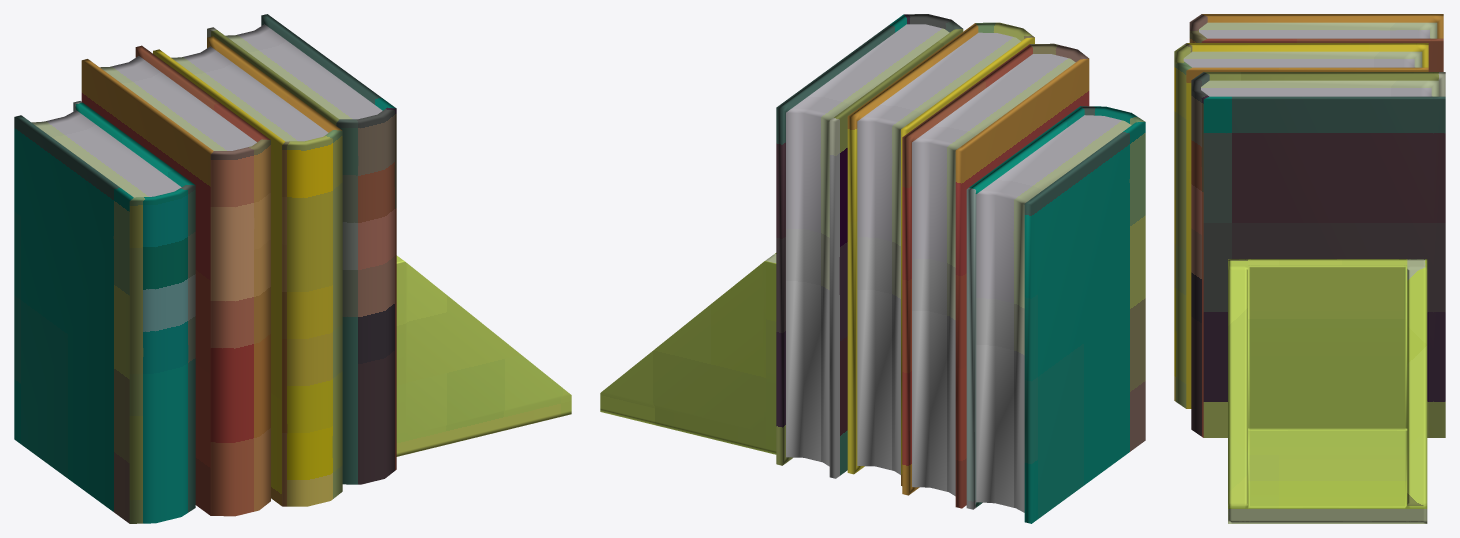
The model's file is a_com_house_a01_book01.gltf.
The picture shows the model from 3 angles, left to right: view 1: azimuth 30°, elevation 25°; view 2: azimuth 150°, elevation 25°; view 3: azimuth 270°, elevation 25°; orthographic projection. The views are drawn at different scales.
Visible parts, largest first — view 1: um_a_com_house_a01_book01_model_a_com_house_a01_book01_model; view 2: um_a_com_house_a01_book01_model_a_com_house_a01_book01_model; view 3: um_a_com_house_a01_book01_model_a_com_house_a01_book01_model.
Boxes of the visible parts, box(x1,y1,x2,y2) form: um_a_com_house_a01_book01_model_a_com_house_a01_book01_model: box(14, 14, 571, 523); um_a_com_house_a01_book01_model_a_com_house_a01_book01_model: box(600, 14, 1145, 523); um_a_com_house_a01_book01_model_a_com_house_a01_book01_model: box(1174, 14, 1445, 523).
Bounding box in the file's own units: 0.4252 × 0.3307 × 0.2404.
Materials: 1 (1 with a texture image).
